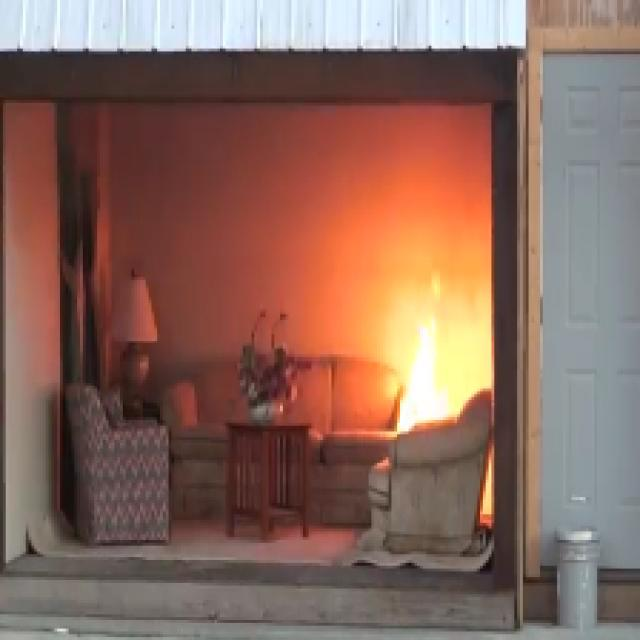fire: (391, 280, 465, 435)
